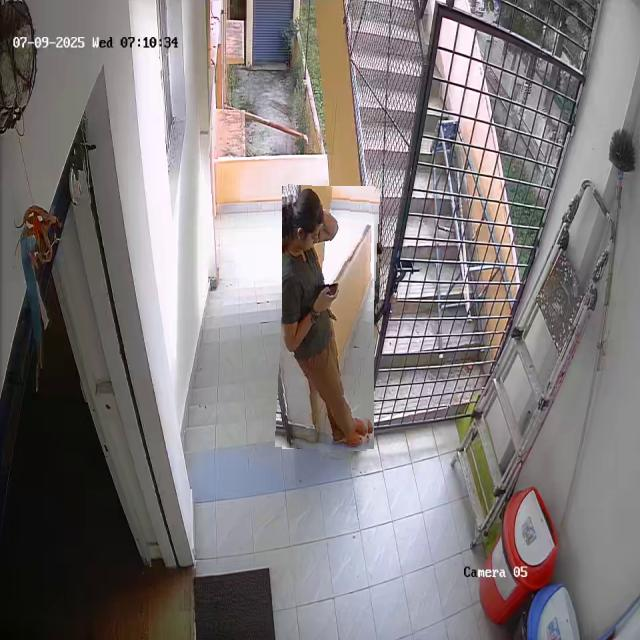person: (279, 185, 377, 450)
